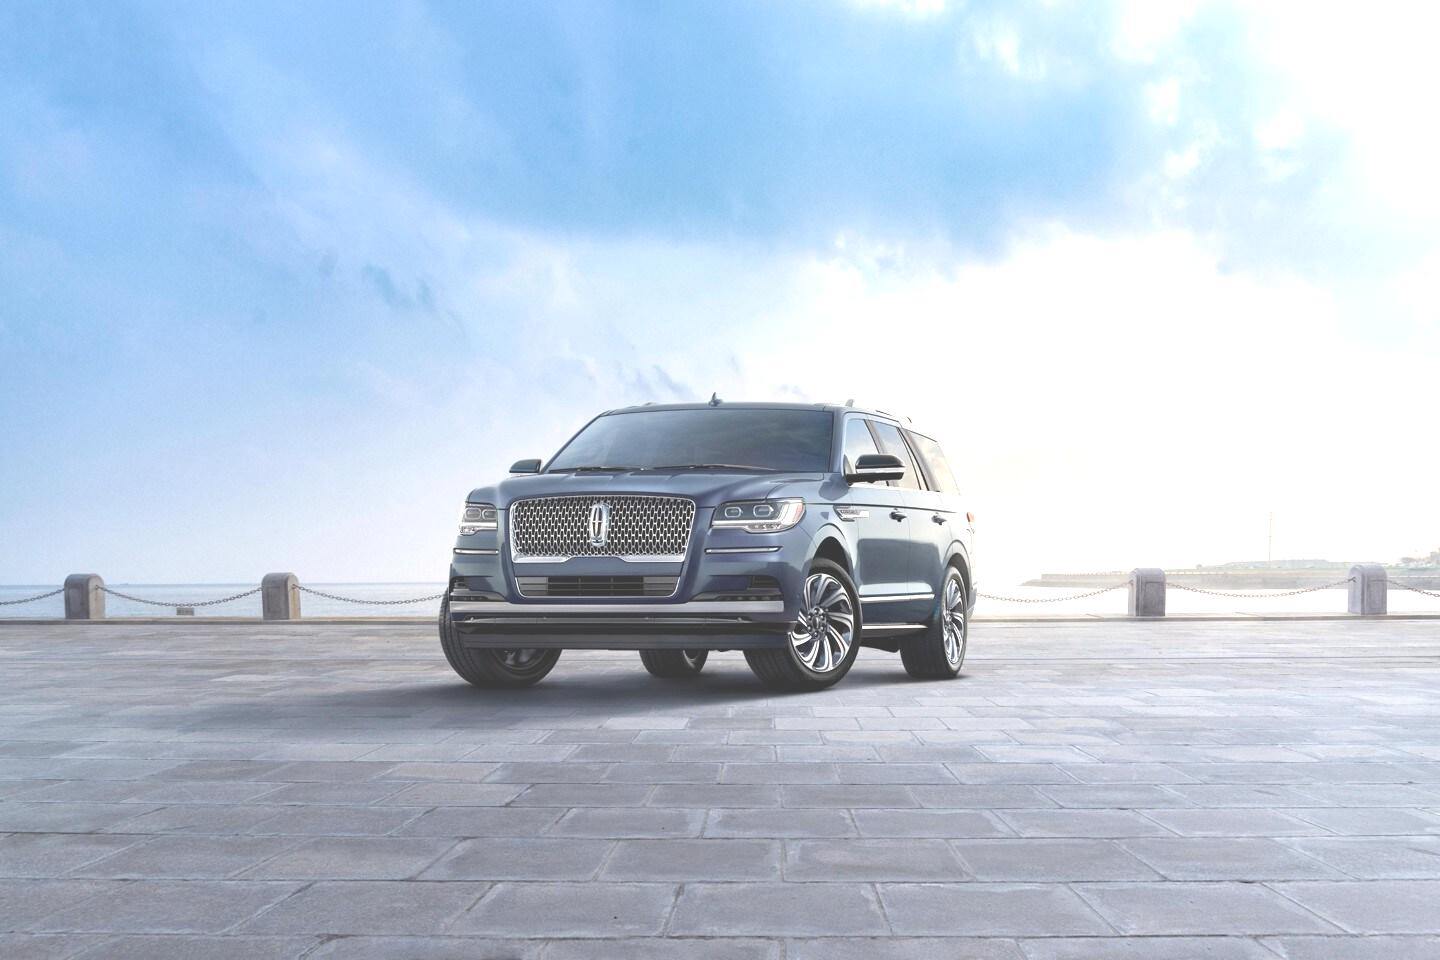lincoln: (583, 497, 614, 551)
